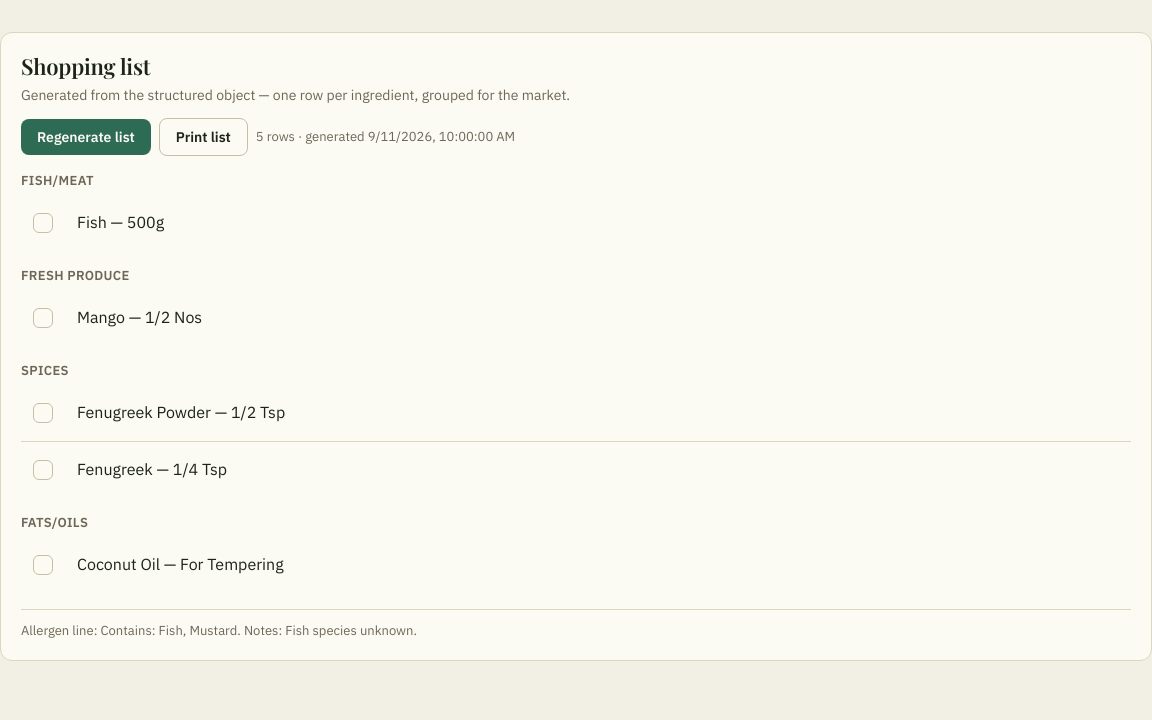
Test: ShoppingSection (D-30) › toggles have/need through the PATCH endpoint and strikes the row
This screenshot has width=1152, height=720.
Expected: the text "Fish — 500g" is shown, top-left (77, 210), bottom-right (164, 236)
Click the button named "Mark Fish — 500g as have" at (43, 223), box top-left (21, 201), bottom-right (65, 245)
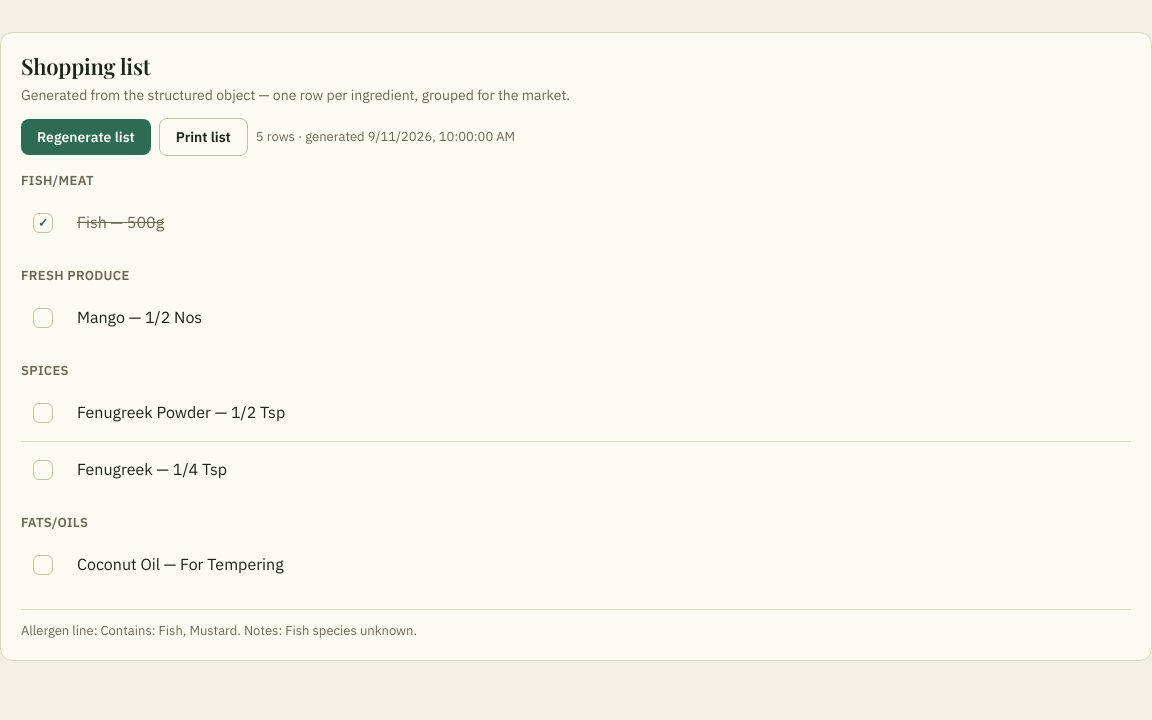
Now the button named "Mark Fish — 500g as need" is shown, box top-left (21, 201), bottom-right (65, 245)
